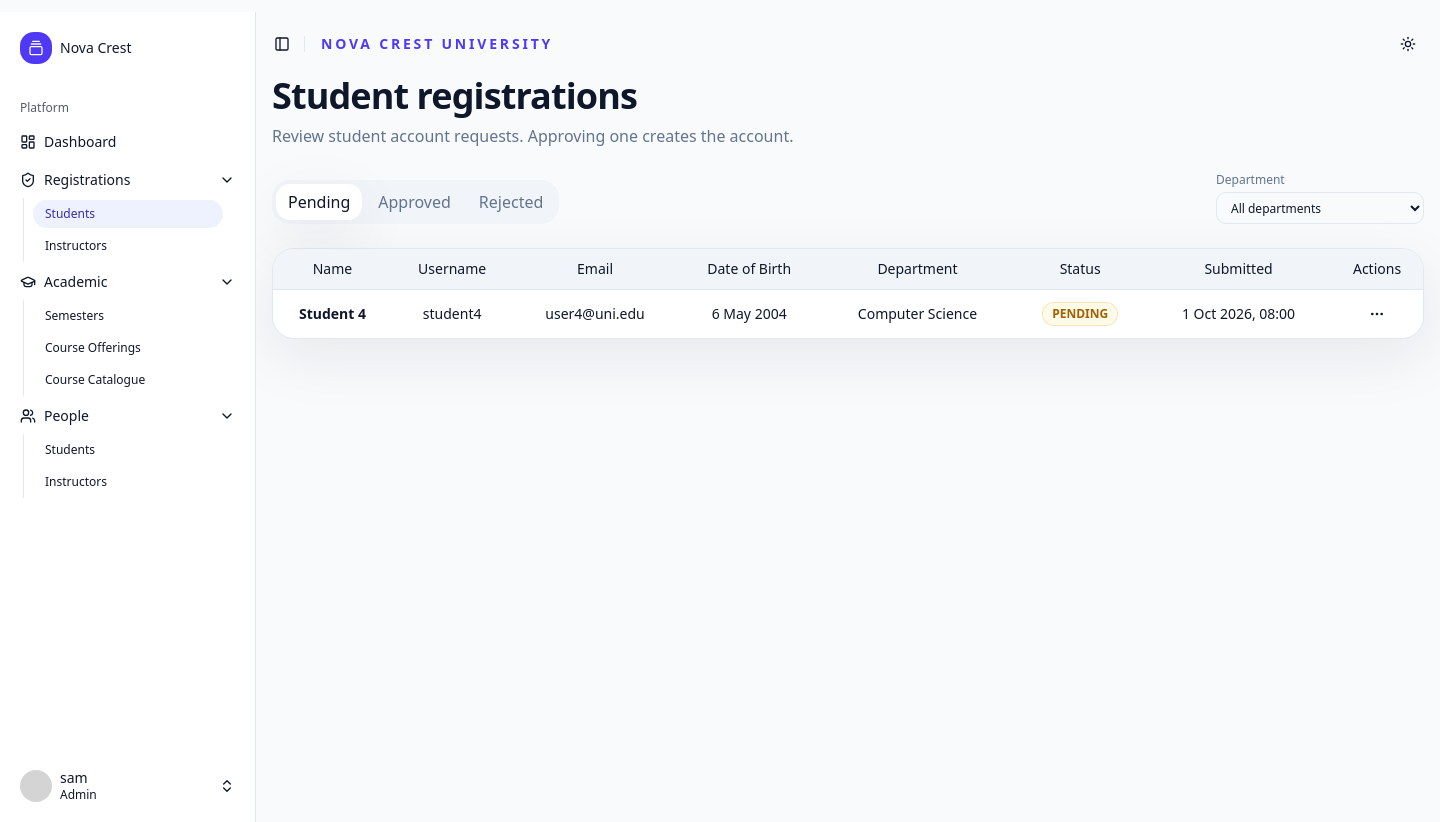
RegistrationsView › offers only the actions the server allows
Click the button without text in the row of "Student 4": click(1377, 314) [1361,298,1393,330]
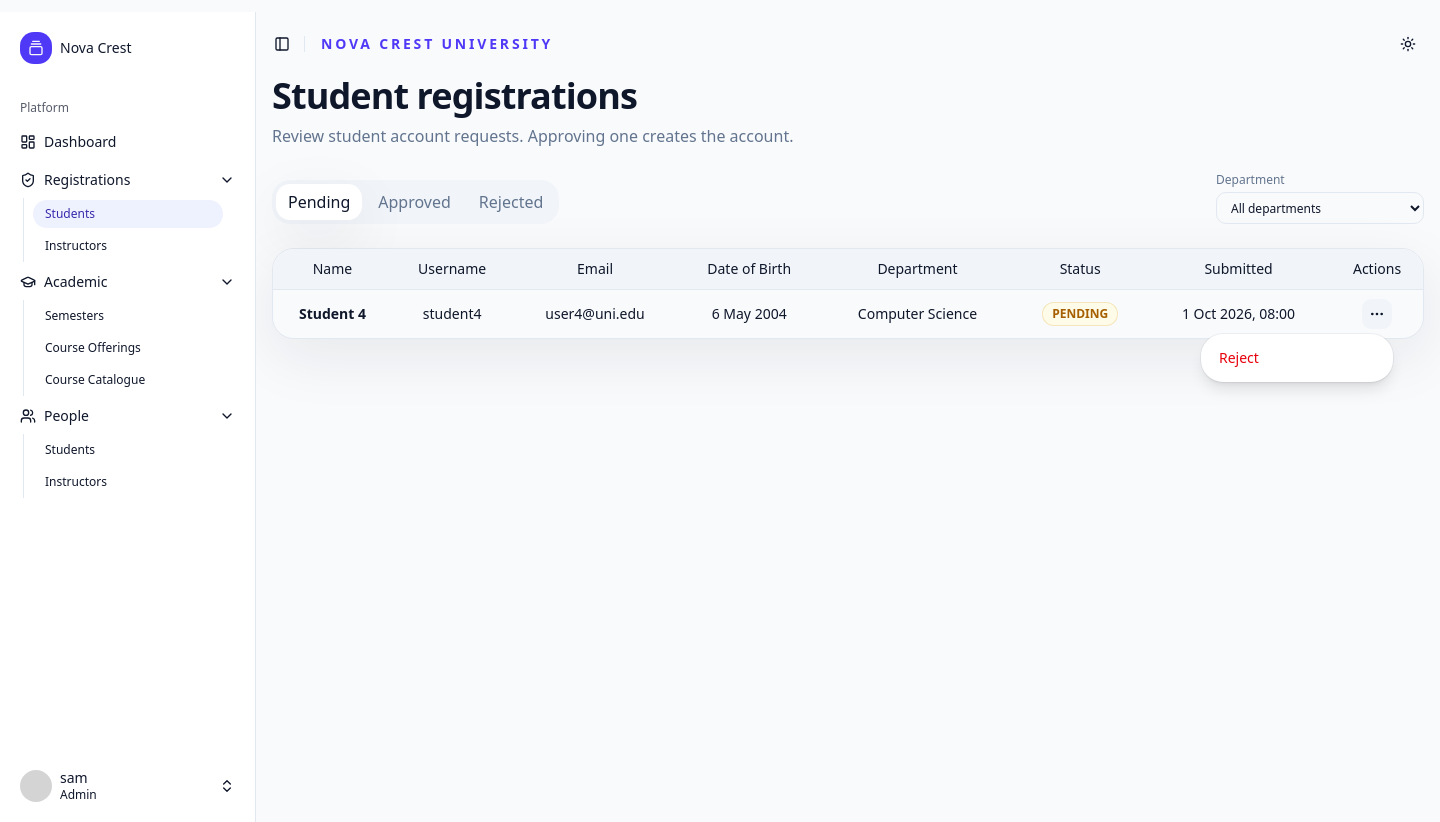
Now the menu items read "Reject", in this order, box [1219,348,1259,367]
